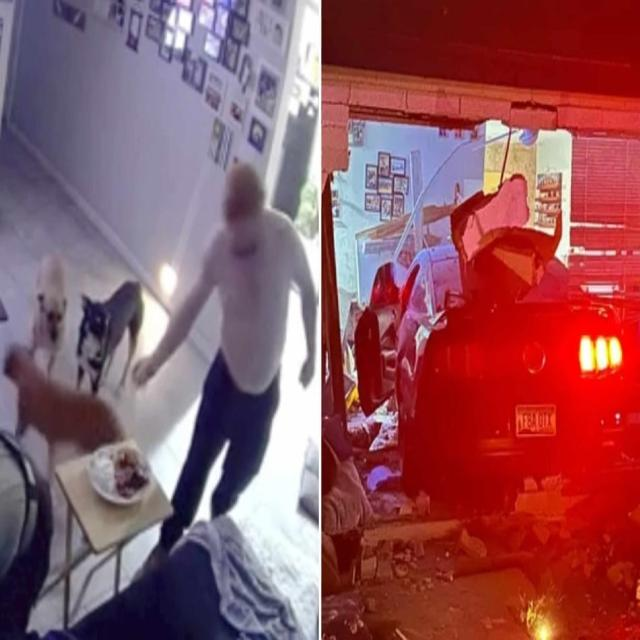Accident: (354, 169, 640, 521)
